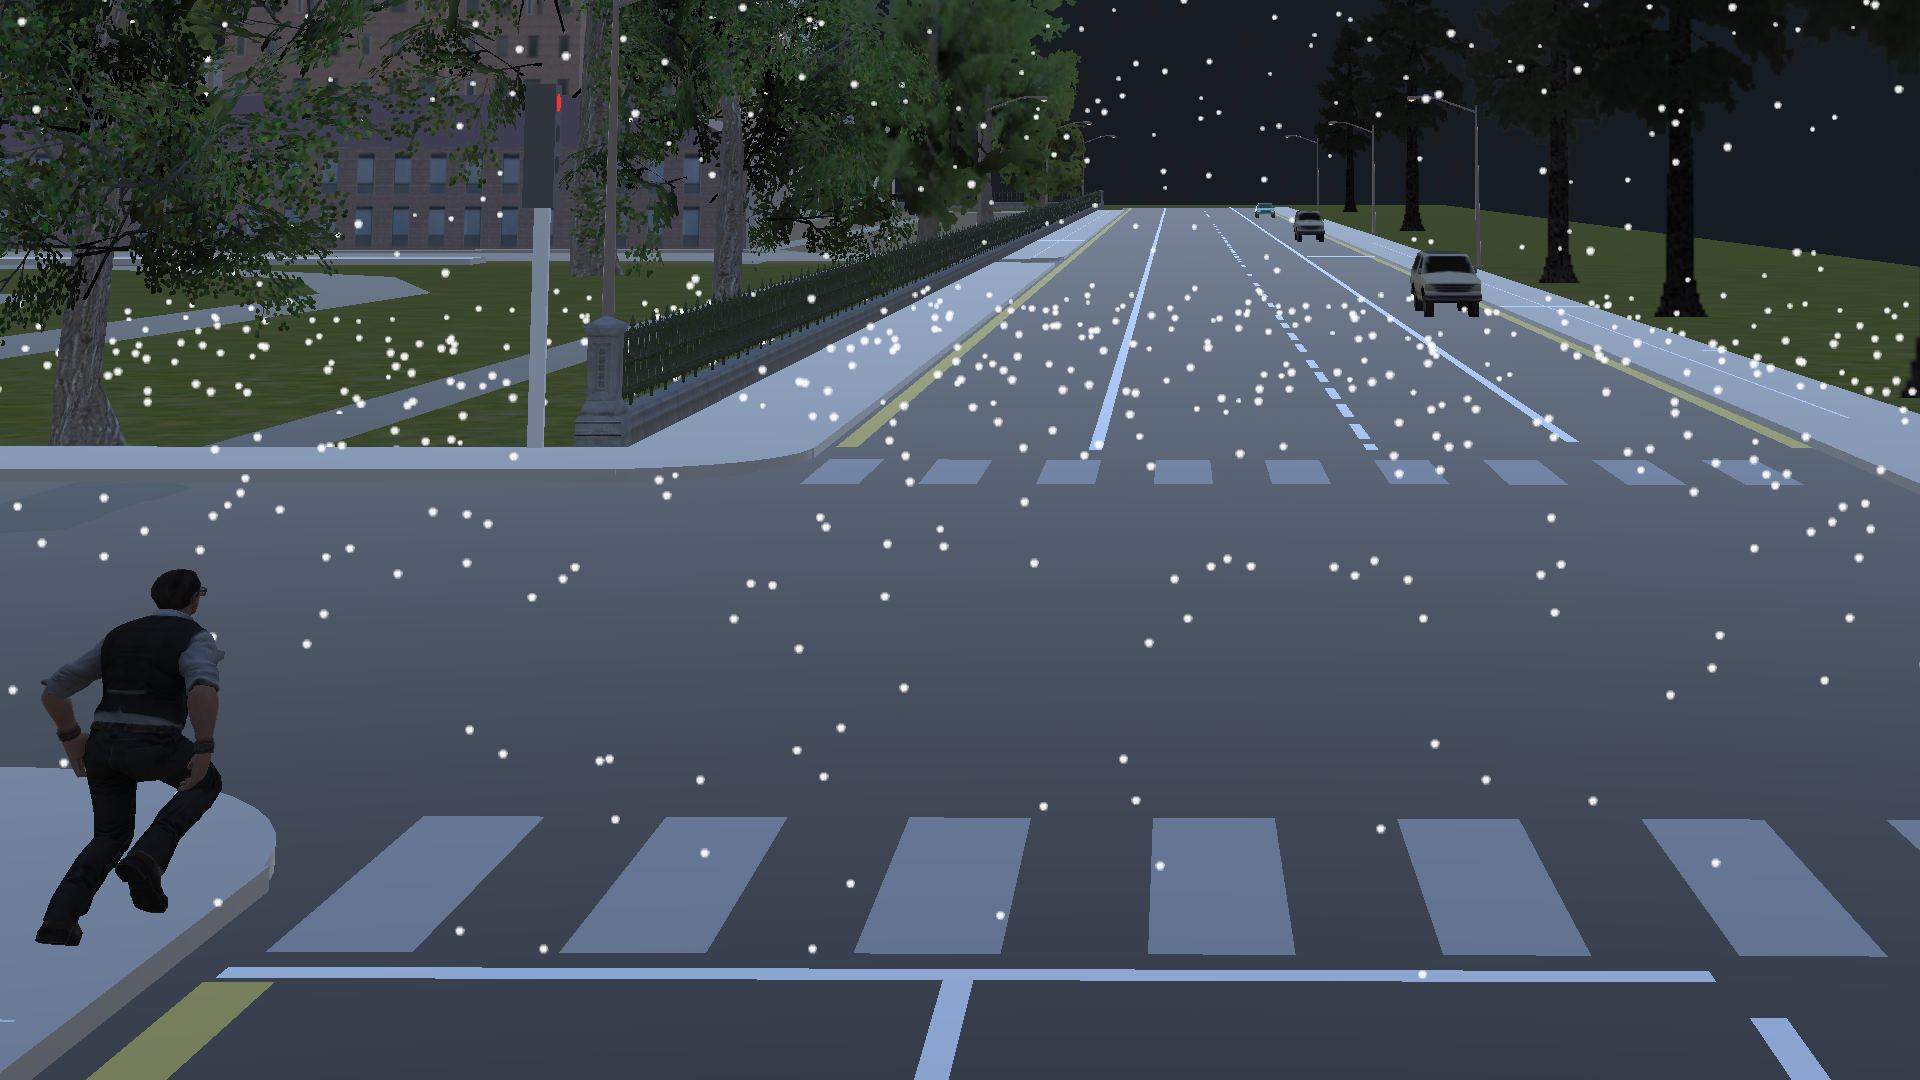pedestrian: (31, 562, 229, 974)
